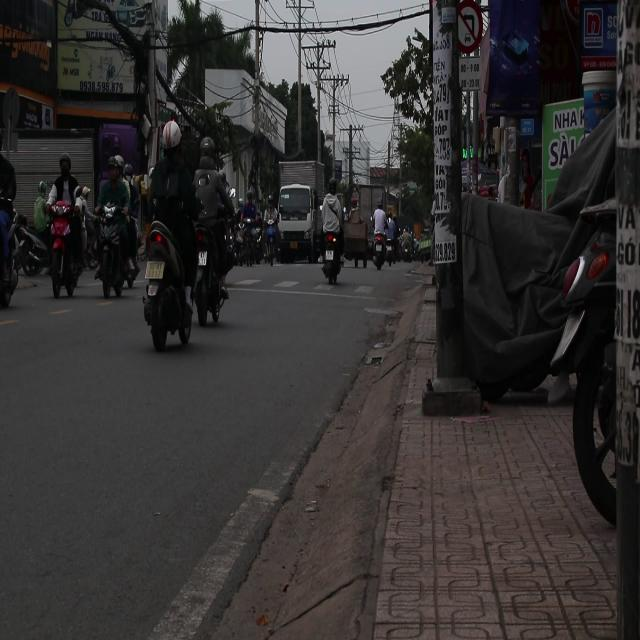motorbike: (136, 217, 196, 354), (40, 172, 92, 298), (192, 216, 236, 330), (6, 206, 51, 283), (236, 220, 264, 268), (319, 233, 342, 285), (262, 222, 279, 266)
truck: (276, 184, 318, 263)
